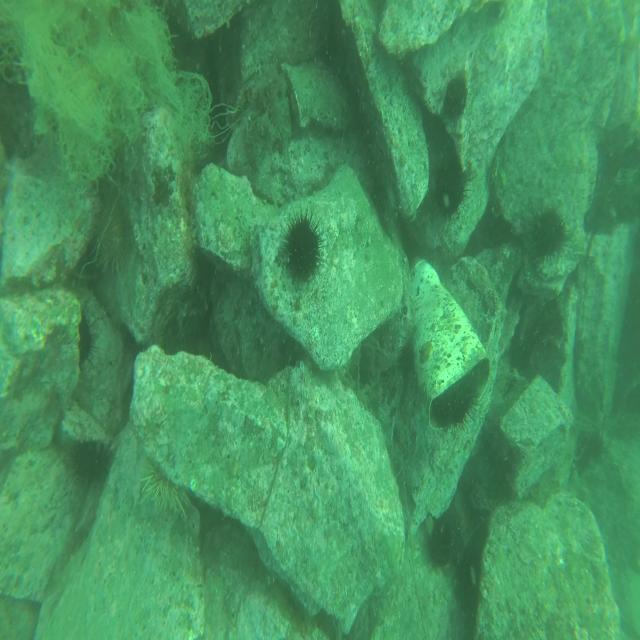echinus: (282, 220, 322, 281), (533, 210, 565, 257), (444, 388, 475, 433), (431, 518, 454, 569), (444, 76, 468, 120)
